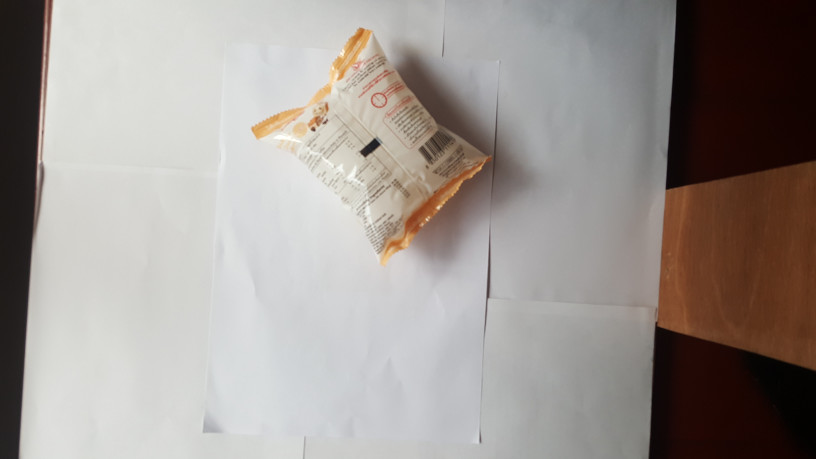farmhouse-sweetsandwich-almond: (245, 25, 496, 269)
